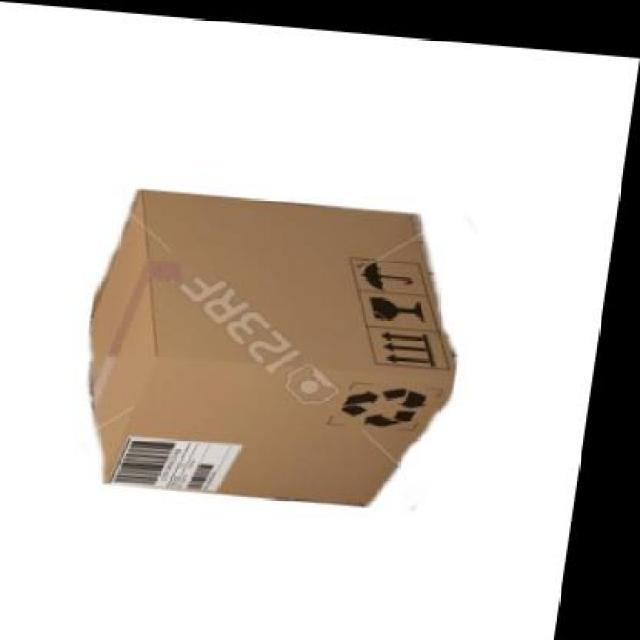box: (80, 187, 478, 506)
